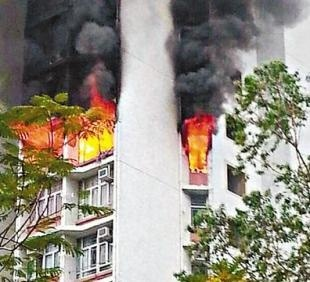fire: (68, 76, 117, 163), (12, 118, 63, 161), (182, 111, 215, 171)
